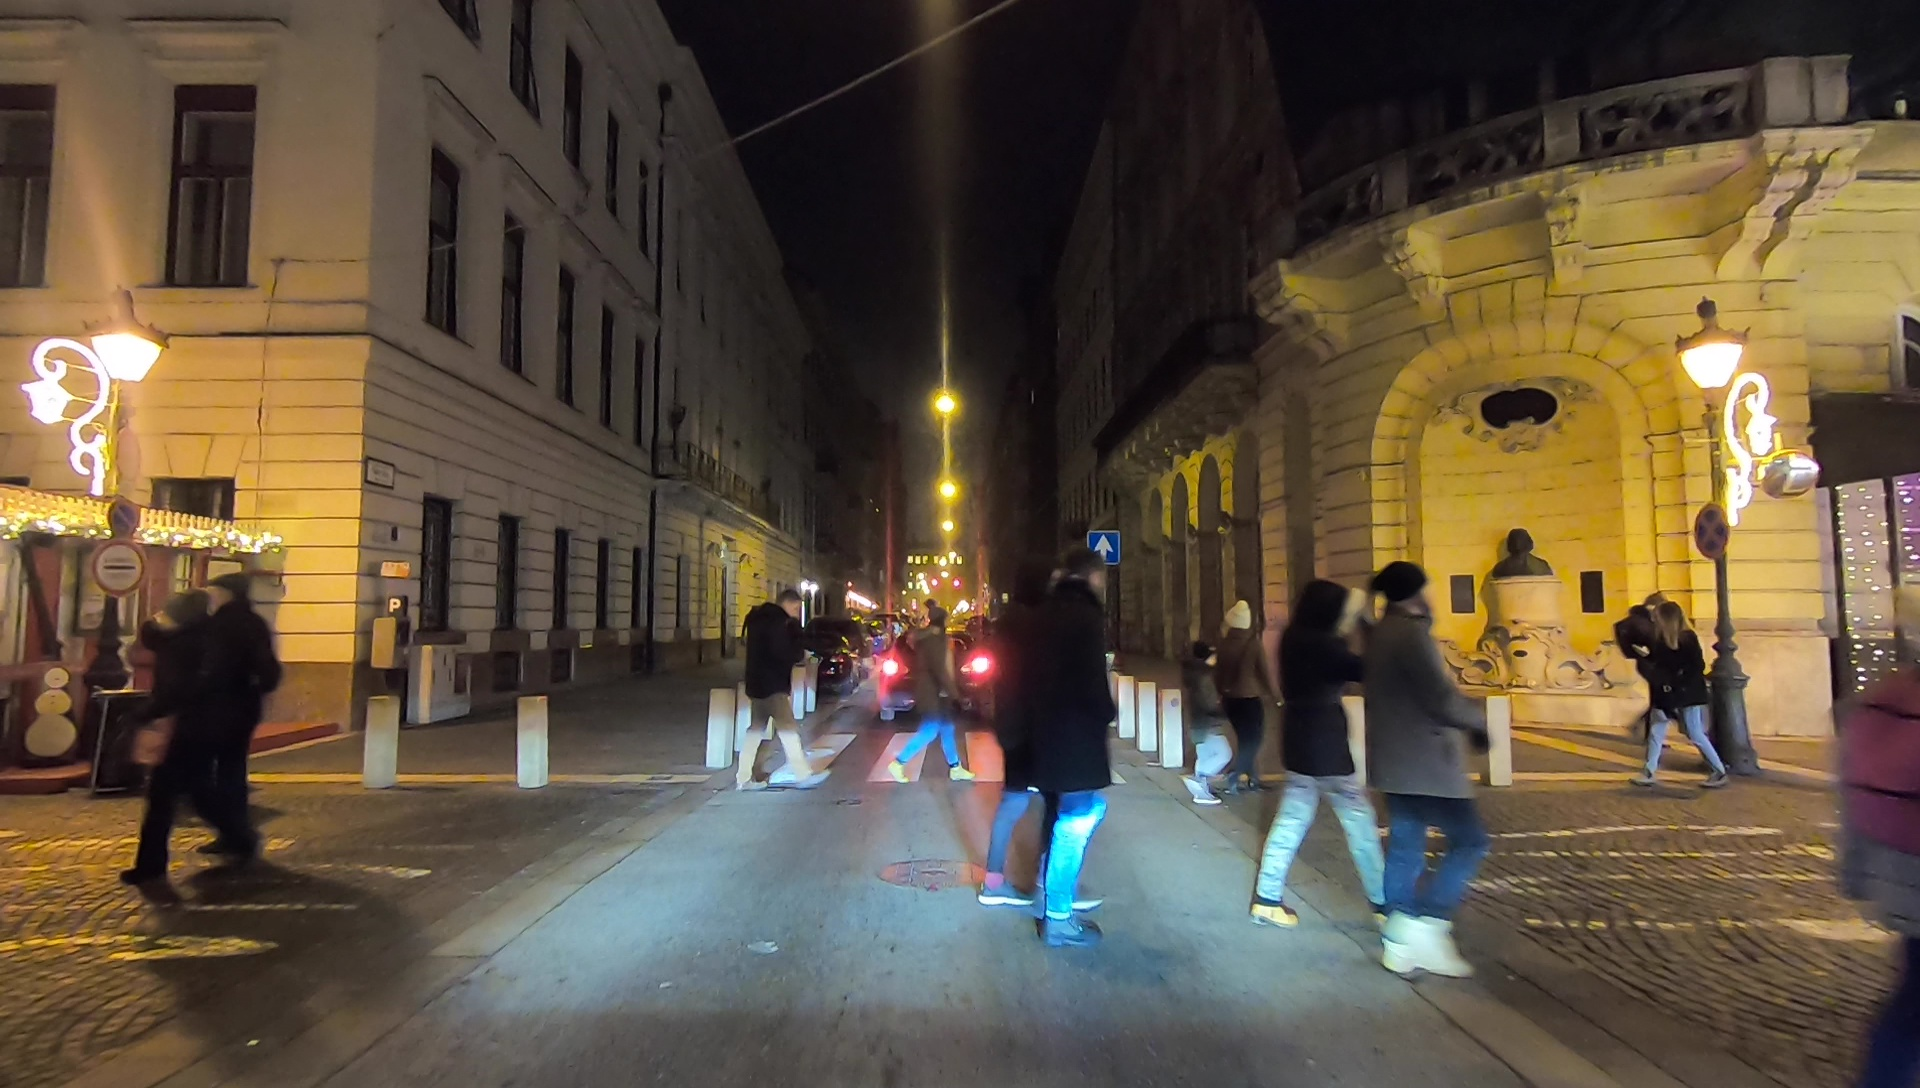person: (1356, 565, 1482, 987), (1254, 586, 1395, 936), (986, 561, 1086, 913), (128, 602, 234, 899), (188, 574, 280, 863), (1045, 561, 1110, 950), (1610, 600, 1732, 806), (734, 587, 832, 800), (893, 606, 976, 791), (1178, 619, 1236, 813), (1217, 597, 1269, 787)
